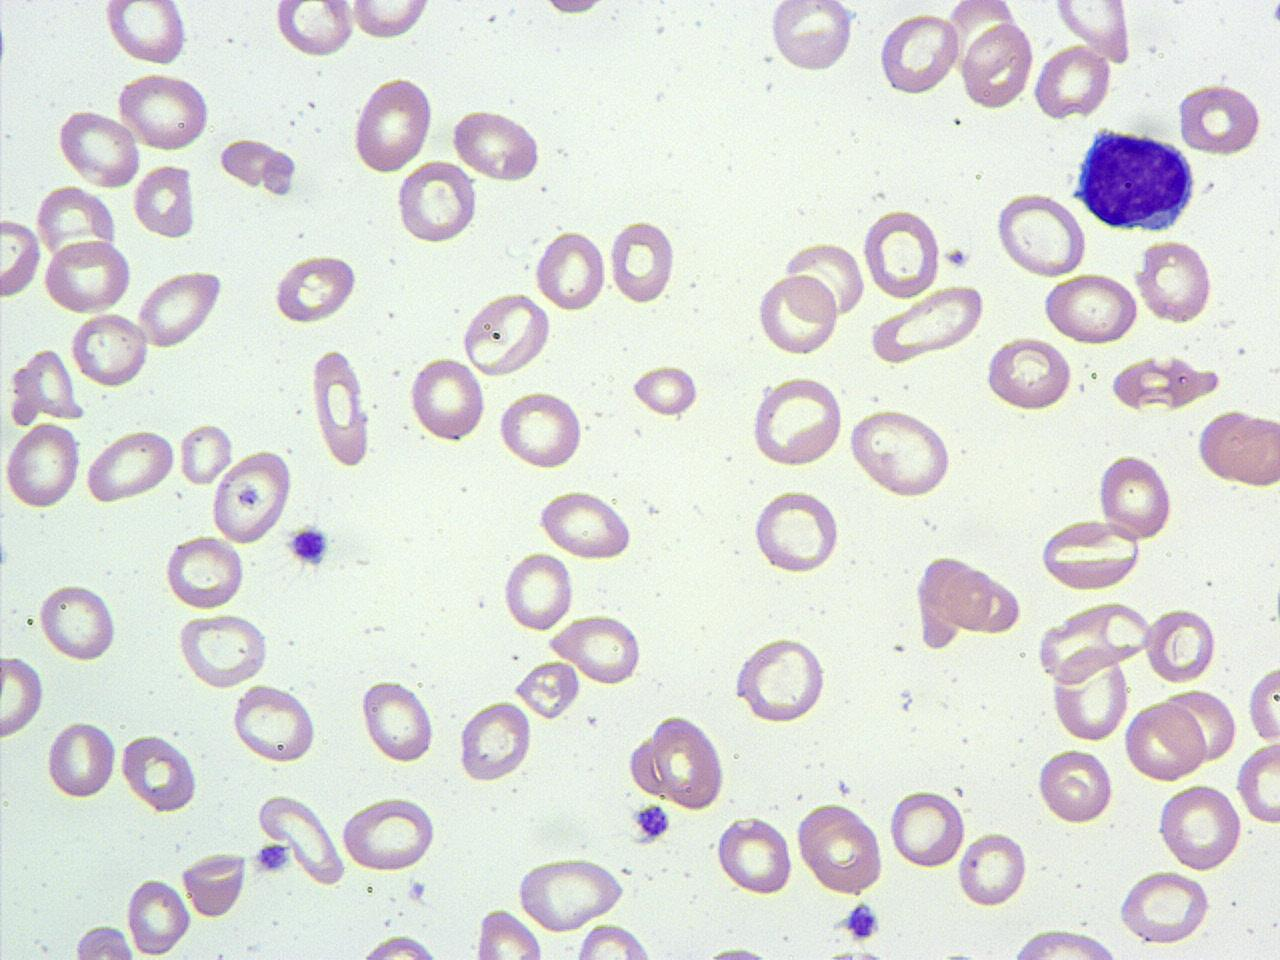Platelets: (286, 522, 332, 568), (840, 900, 882, 944), (630, 802, 672, 840), (252, 840, 290, 876), (701, 942, 771, 960), (0, 12, 13, 82), (940, 247, 972, 270), (1266, 1, 1280, 31)
RBC: (846, 406, 954, 500), (748, 373, 846, 469), (868, 284, 986, 363), (732, 635, 830, 725), (794, 800, 885, 896), (254, 792, 346, 886), (514, 856, 625, 933), (993, 190, 1089, 279), (210, 448, 296, 546), (351, 74, 433, 175), (462, 290, 554, 380), (752, 487, 844, 576), (114, 70, 213, 152), (1156, 781, 1244, 872), (338, 794, 437, 874), (1050, 644, 1130, 743), (862, 206, 944, 302), (1038, 517, 1142, 591), (309, 349, 373, 468), (176, 610, 270, 691), (1040, 270, 1140, 346), (1117, 868, 1213, 946), (1122, 698, 1208, 785), (2, 418, 82, 511), (231, 681, 318, 766), (878, 9, 961, 98), (984, 332, 1073, 414), (408, 354, 489, 444), (1134, 236, 1214, 327), (755, 270, 839, 356), (912, 551, 988, 646), (83, 428, 178, 504), (135, 268, 225, 348), (1174, 78, 1264, 158), (959, 19, 1036, 112), (54, 107, 143, 187), (1095, 452, 1173, 542), (496, 390, 586, 468), (537, 487, 633, 560), (41, 238, 133, 314), (652, 713, 724, 810), (449, 107, 542, 182), (1108, 354, 1222, 415), (547, 614, 644, 685), (359, 676, 436, 765), (1195, 407, 1277, 490), (396, 159, 476, 244), (36, 580, 118, 662), (785, 239, 866, 321), (766, 0, 856, 73), (456, 698, 532, 784), (272, 253, 360, 327), (119, 730, 198, 812), (888, 787, 966, 870), (533, 228, 608, 314), (1032, 42, 1112, 122), (68, 310, 150, 388), (1036, 745, 1114, 827), (501, 548, 575, 634), (716, 814, 792, 897), (608, 216, 677, 307), (164, 534, 245, 610), (46, 716, 117, 802), (101, 0, 189, 66), (1165, 686, 1239, 764), (956, 829, 1028, 908), (125, 874, 192, 957), (1146, 606, 1216, 684), (16, 346, 87, 420), (950, 564, 1022, 636), (1053, 0, 1133, 64), (272, 0, 356, 59), (131, 163, 196, 239), (180, 850, 249, 918), (218, 135, 296, 195), (0, 652, 47, 742), (515, 658, 581, 722), (1234, 737, 1280, 828), (1002, 924, 1122, 958), (628, 362, 699, 417), (470, 906, 545, 958), (178, 421, 235, 486), (348, 0, 434, 42), (0, 217, 42, 300), (572, 923, 657, 960), (352, 932, 454, 960), (68, 921, 139, 959), (1247, 660, 1279, 742), (534, 0, 614, 20)
WBC: (1073, 124, 1201, 234)
